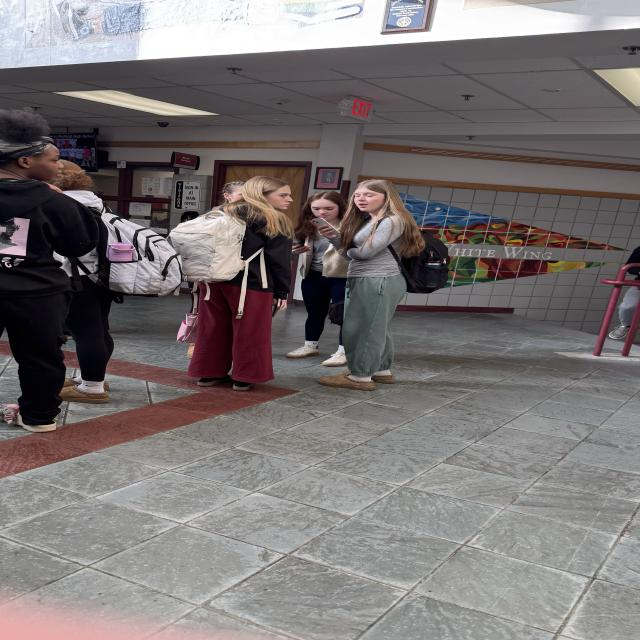pen: (312, 218, 341, 235), (290, 241, 310, 251)
